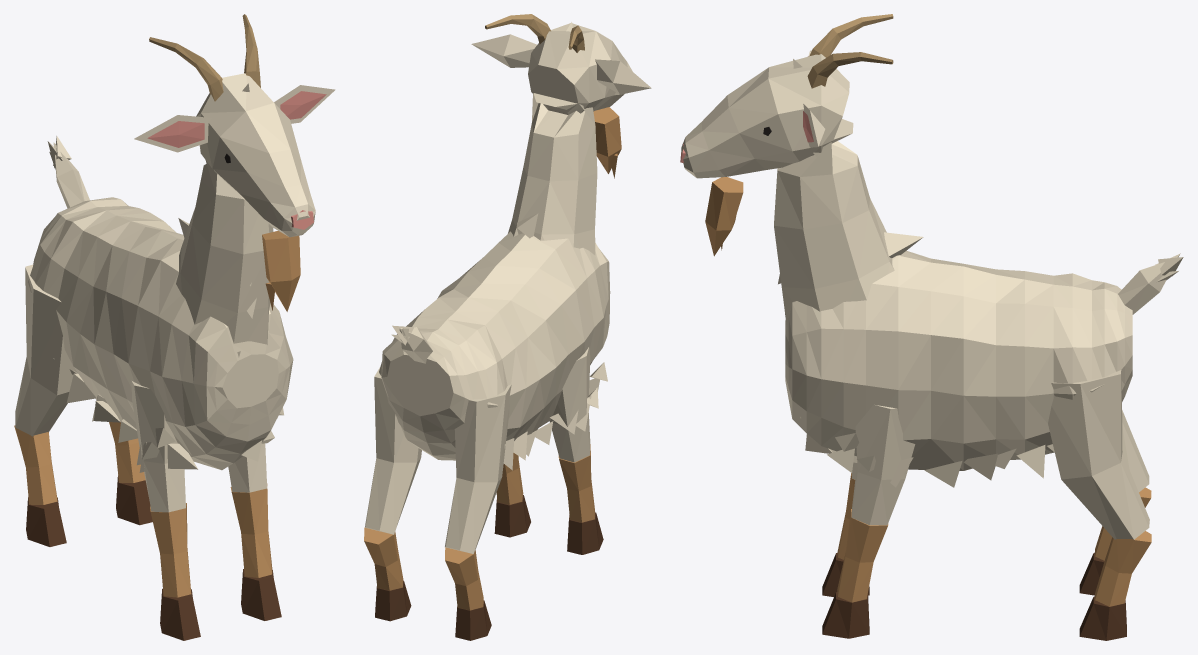
Rendered from goat-idle.glb.
3 views of the same model, side by side, from view 1: azimuth 30°, elevation 25°; view 2: azimuth 150°, elevation 25°; view 3: azimuth 270°, elevation 25° (orthographic). The views are drawn at different scales.
Visible parts, largest first — view 1: body, neck, head, leg_hind_R_upper, leg_front_R_upper, leg_front_R_lower, leg_front_L_lower, beard, leg_hind_R_lower, leg_front_R_hoof, leg_front_L_hoof, leg_hind_R_hoof (+10 smaller); view 2: body, neck, leg_hind_R_upper, head, leg_hind_L_upper, leg_front_R_upper, leg_front_R_lower, leg_hind_L_lower, leg_hind_R_lower, beard, ear_L, ear_R (+7 smaller); view 3: body, neck, head, leg_hind_L_upper, leg_front_L_upper, leg_front_L_lower, leg_hind_L_lower, beard, tail, leg_front_L_hoof, leg_hind_L_hoof, horn_L (+2 smaller).
Boxes of the visible parts, box(x1,y1,x2,y2) form: body: box(28, 197, 293, 472); neck: box(176, 160, 273, 344); head: box(196, 73, 315, 237); leg_hind_R_upper: box(15, 264, 77, 436); leg_front_R_upper: box(131, 381, 185, 512); leg_front_R_lower: box(150, 503, 191, 597); leg_front_L_lower: box(230, 483, 272, 577); beard: box(262, 231, 300, 311); leg_hind_R_lower: box(14, 425, 57, 504); leg_front_R_hoof: box(160, 588, 200, 640); leg_front_L_hoof: box(241, 569, 281, 620); leg_hind_R_hoof: box(26, 497, 66, 546); body: box(379, 231, 610, 470); neck: box(508, 93, 597, 255); leg_hind_R_upper: box(445, 384, 511, 553); head: box(528, 22, 632, 114); leg_hind_L_upper: box(365, 367, 421, 534); leg_front_R_upper: box(549, 347, 590, 462); leg_front_R_lower: box(558, 444, 594, 522); leg_hind_L_lower: box(364, 527, 403, 590); leg_hind_R_lower: box(445, 547, 483, 610); beard: box(593, 107, 621, 178); ear_L: box(471, 34, 536, 67); ear_R: box(595, 59, 651, 94); body: box(785, 250, 1132, 487); neck: box(774, 119, 923, 326); head: box(681, 54, 849, 178); leg_hind_L_upper: box(1048, 370, 1149, 539); leg_front_L_upper: box(851, 404, 915, 525); leg_front_L_lower: box(837, 509, 888, 602); leg_hind_L_lower: box(1095, 531, 1151, 606); beard: box(705, 177, 743, 256); tail: box(1118, 253, 1183, 314); leg_front_L_hoof: box(822, 592, 869, 638); leg_hind_L_hoof: box(1079, 596, 1126, 640); horn_L: box(807, 52, 893, 88).
Size of the model in its own units: 0.45 by 1.23 by 0.9758.
